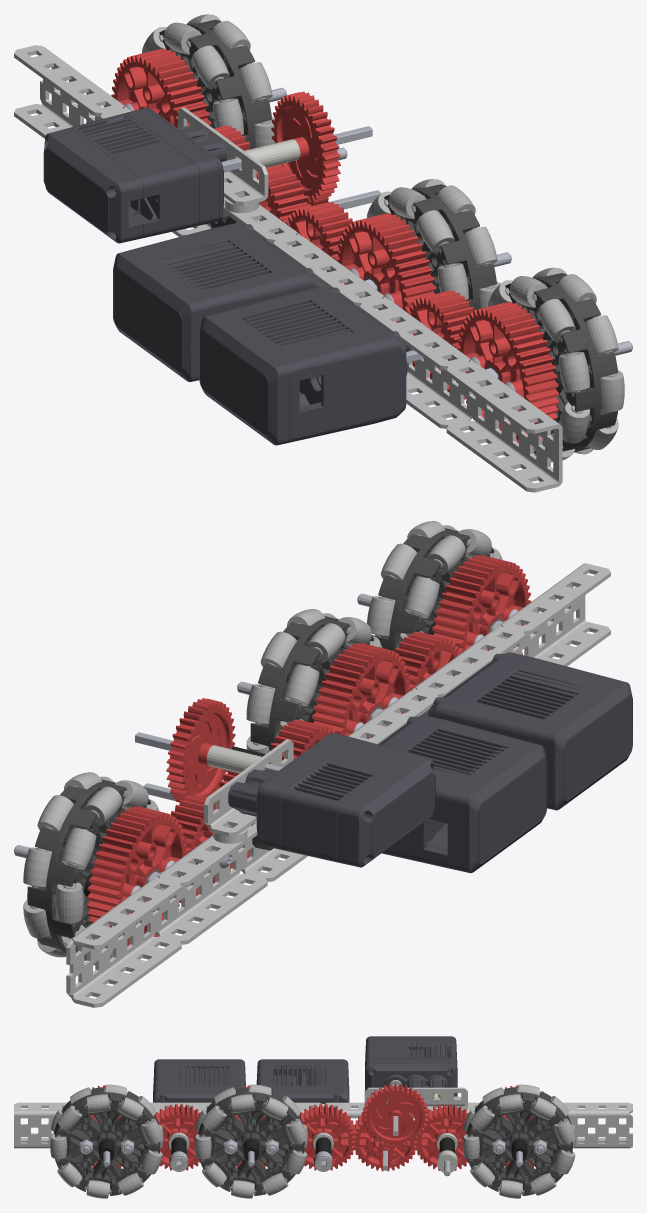
The picture shows the model from 3 angles, top to bottom: view 1: azimuth 30°, elevation 25°; view 2: azimuth 150°, elevation 25°; view 3: azimuth 270°, elevation 25°; orthographic projection. The views are drawn at different scales.
Parts seen in each view (by area): view 1: empty_2; view 2: empty_2; view 3: empty_2.
Boxes of the visible parts, box(x1,y1,x2,y2) form: empty_2: box(14, 14, 632, 492); empty_2: box(14, 521, 632, 1007); empty_2: box(14, 1036, 632, 1198).
Size of the model in its own units: 135 by 72.07 by 381.
